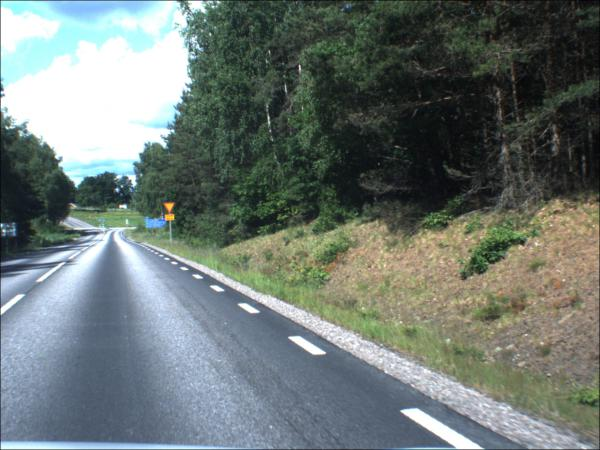GIVE_WAY: (165, 203, 177, 215)
